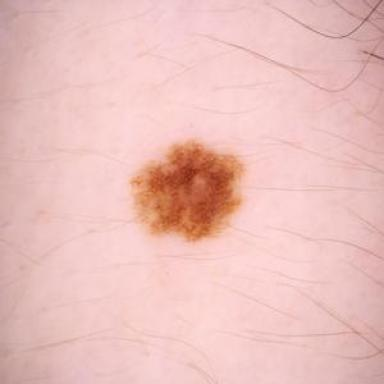Melanoma: (131, 140, 244, 240)
